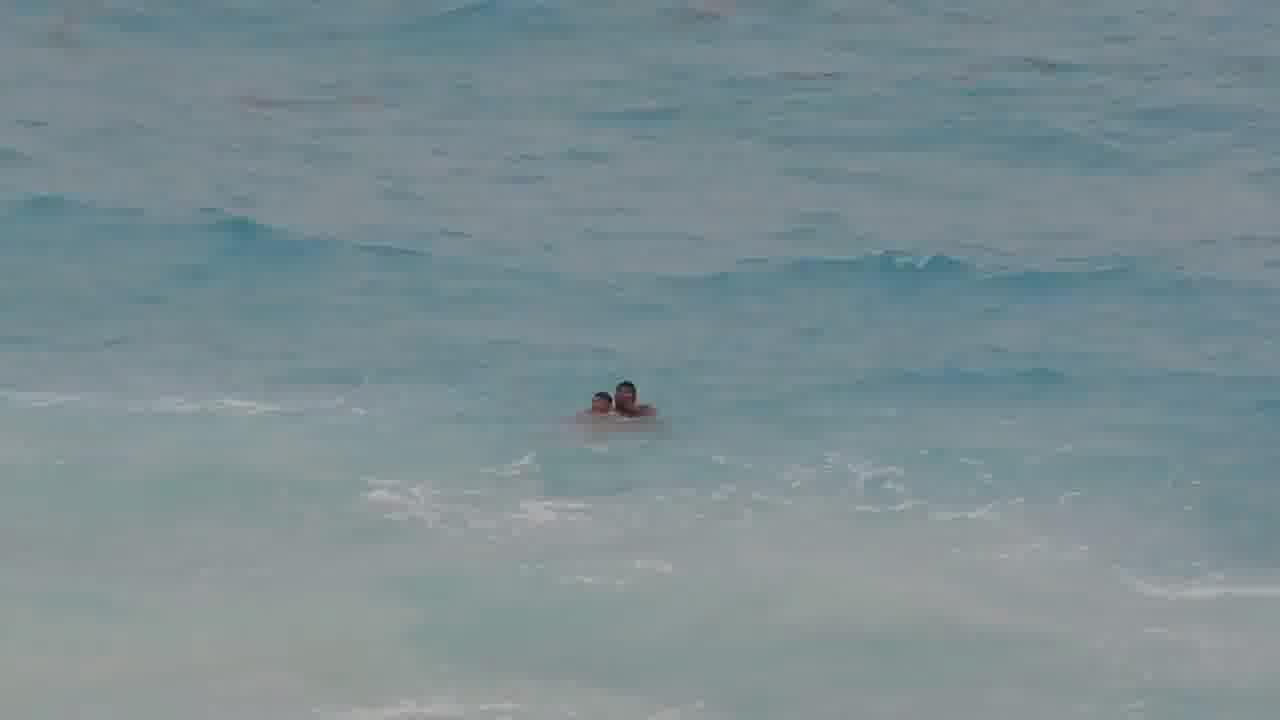human: (607, 372, 665, 425), (574, 384, 622, 422)
